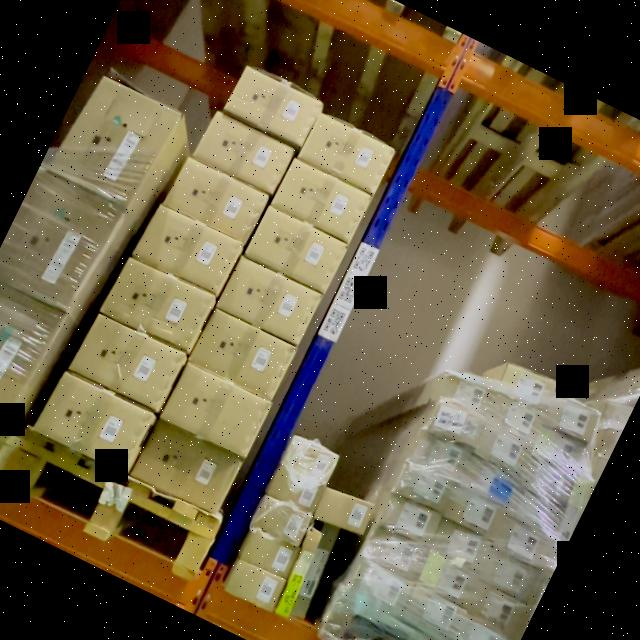box: (49, 79, 178, 206), (33, 372, 154, 472), (67, 313, 186, 413), (99, 257, 215, 353), (158, 362, 272, 459), (187, 308, 297, 400), (130, 423, 242, 512), (132, 205, 241, 295), (215, 255, 322, 344), (242, 206, 348, 295), (162, 157, 268, 243), (192, 111, 293, 195), (221, 65, 323, 148), (271, 158, 372, 241), (296, 113, 396, 193), (291, 523, 340, 615), (273, 526, 324, 614), (413, 554, 481, 609), (373, 493, 440, 548), (403, 583, 467, 639), (456, 456, 521, 511), (362, 527, 428, 581), (427, 521, 494, 574), (389, 463, 455, 516), (346, 558, 412, 610), (478, 547, 542, 600), (223, 560, 286, 613), (473, 425, 537, 477), (407, 432, 473, 482), (492, 517, 556, 568), (465, 582, 525, 636), (443, 487, 507, 537), (251, 497, 313, 548), (482, 397, 547, 445), (238, 529, 299, 579), (496, 362, 559, 409), (504, 489, 566, 536), (424, 402, 487, 448), (313, 488, 376, 534), (517, 457, 576, 506), (436, 373, 500, 418), (541, 395, 603, 440), (280, 438, 341, 483), (265, 467, 324, 513), (530, 428, 587, 474), (454, 616, 509, 640)
